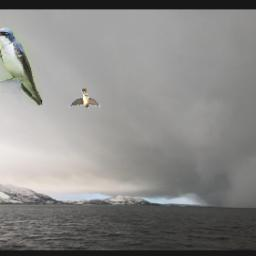Swallow: (0, 28, 43, 106), (70, 88, 102, 108)
